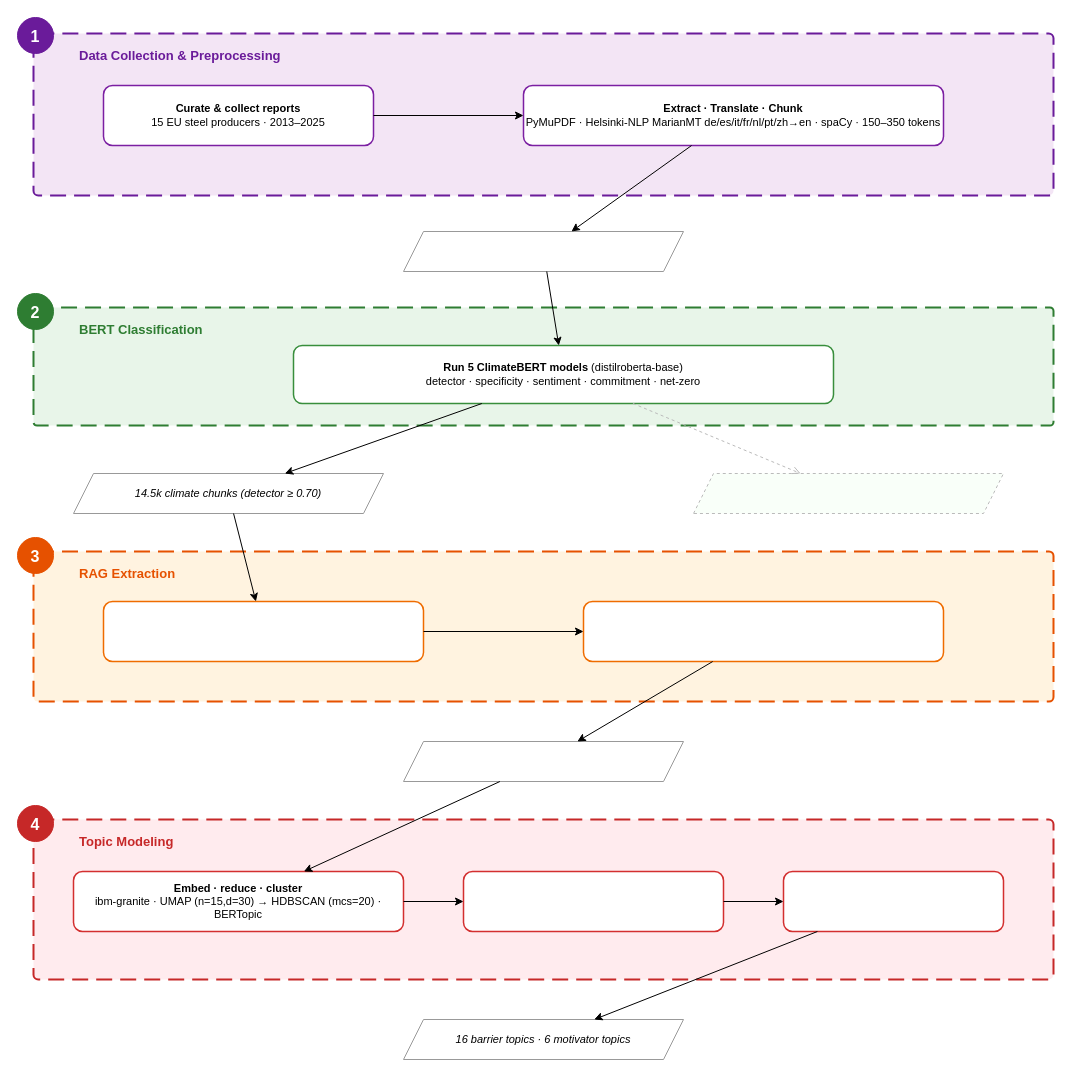
This 1072x1077 diagram has some shape labels left out. The centre of each missing label's shape, as x and y in pixels:
1.7k barriers · 1.3k motivators: [543,761]
36.4k text chunks: [543,251]
Auto-label topics LLaMA-3.1-8b-instant via Groq: [593,901]
Extract barriers & motivators LLaMA-3.1-8b-instant via Groq · ctx 128k tokens: [763,631]
Merge & reduce manually: [893,901]
Retrieve chunks per company-year Snowflake arctic-embed-s → FAISS · MMR top-20: [263,631]
specificity · commitment · net-zero scores stored as metadata: [848,493]
